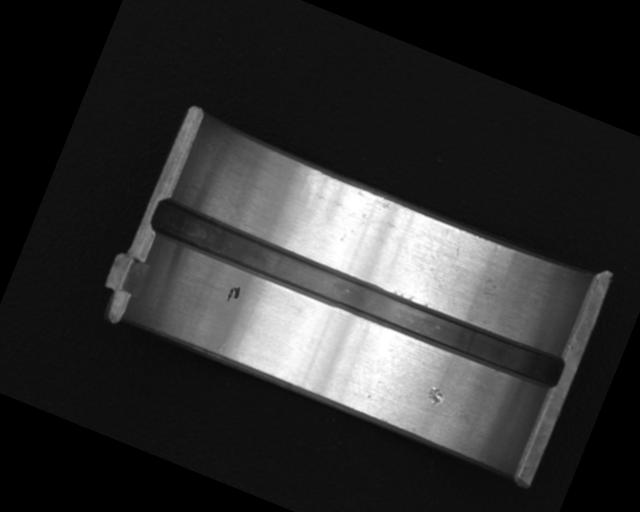blot: (224, 282, 243, 306)
bruise: (422, 383, 447, 408)
gap: (146, 195, 568, 398)
